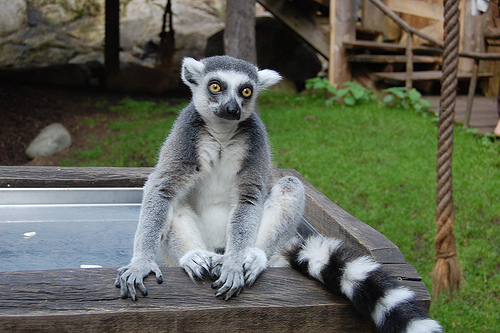cat: (112, 52, 445, 331)
